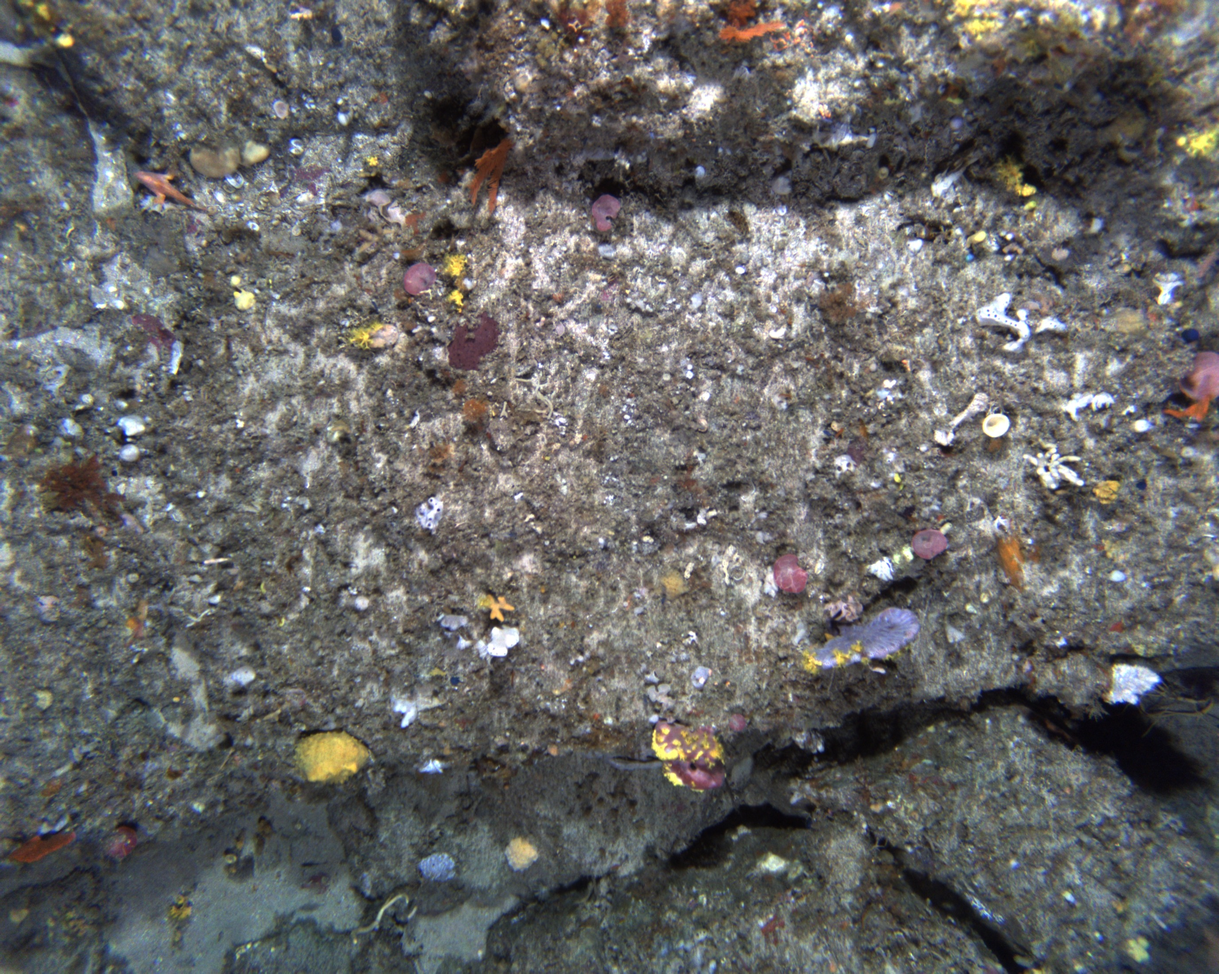Brachionichthyidae: (131, 164, 214, 215)
